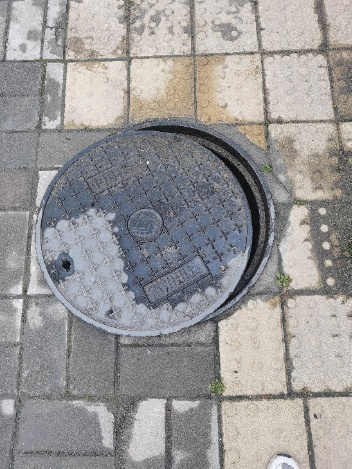well: (34, 119, 277, 339)
